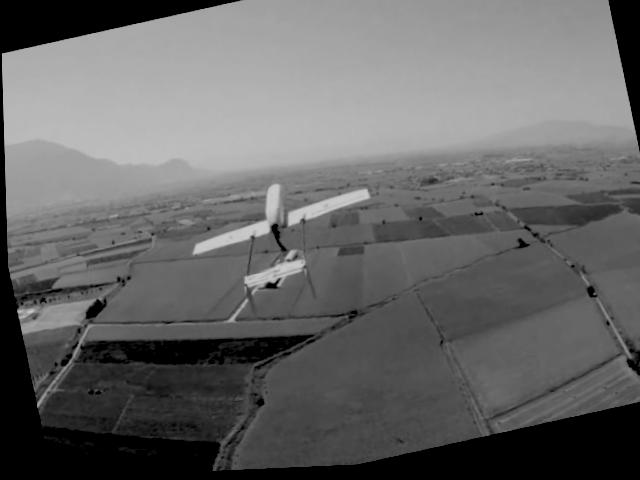hedef: (167, 140, 407, 335)
